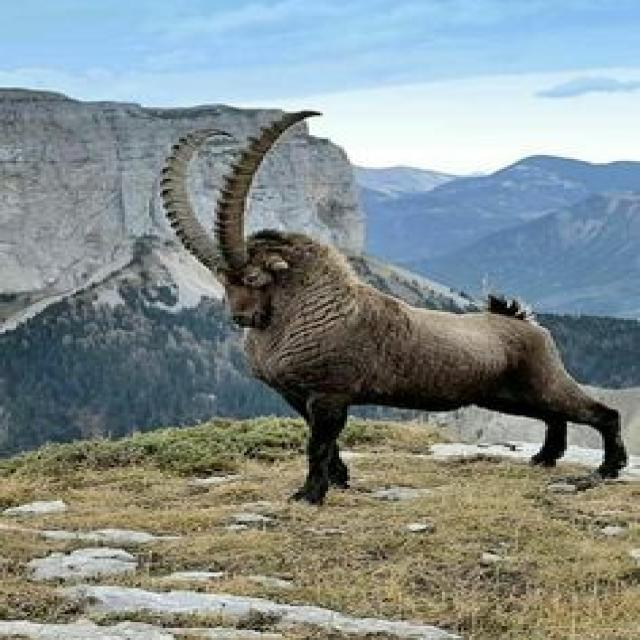Herbivorous: (157, 111, 626, 507)
